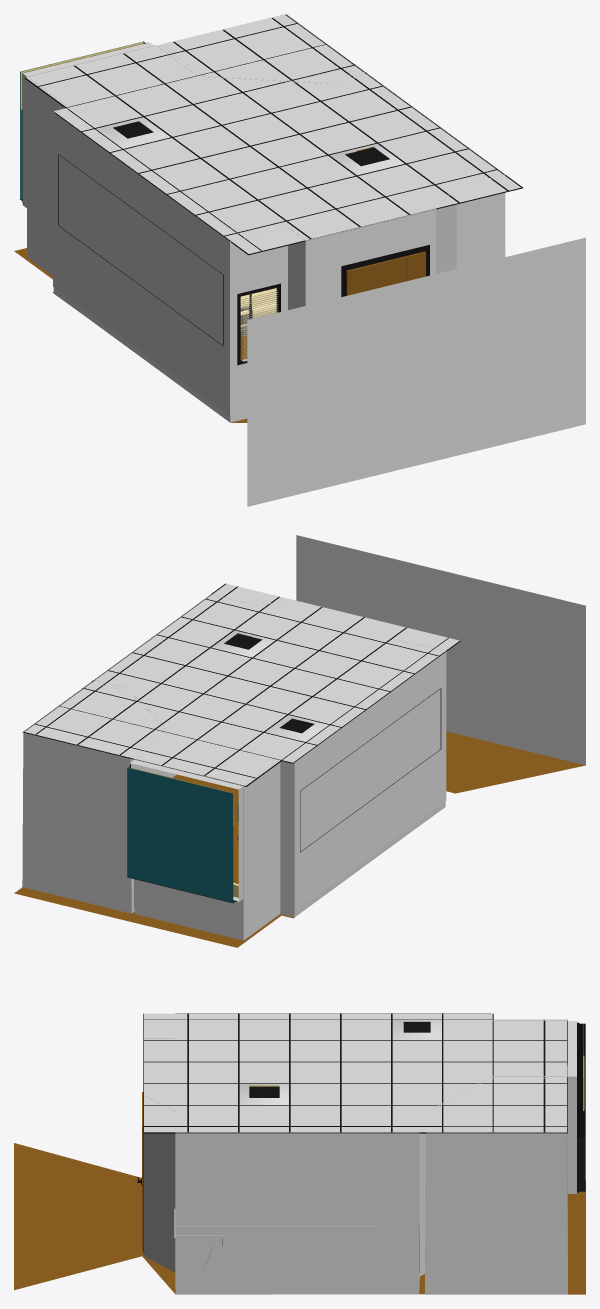
Rendered from Room_Fin.obj.
3 views of the same model, one above another, from view 1: azimuth 30°, elevation 25°; view 2: azimuth 150°, elevation 25°; view 3: azimuth 270°, elevation 25° (orthographic). The views are drawn at different scales.
Parts seen in each view (by area): view 1: Room Floor, Room Ceiling, Room Walls, Room Door_Entrance, Room Bed Blanket, Room Blinds Blinds_Small; view 2: Room Walls, Room Ceiling, Room Floor; view 3: Room Walls, Room Ceiling, Room Floor.
Part boxes in pixels (x1=…): Room Floor: x1=14, y1=237, x2=585, y2=506; Room Ceiling: x1=24, y1=14, x2=523, y2=255; Room Walls: x1=20, y1=14, x2=505, y2=422; Room Door_Entrance: x1=346, y1=256, x2=405, y2=295; Room Bed Blanket: x1=240, y1=288, x2=276, y2=327; Room Blinds Blinds_Small: x1=241, y1=290, x2=278, y2=361; Room Walls: x1=22, y1=594, x2=446, y2=940; Room Ceiling: x1=22, y1=583, x2=460, y2=786; Room Floor: x1=14, y1=535, x2=585, y2=947; Room Walls: x1=142, y1=1013, x2=585, y2=1294; Room Ceiling: x1=143, y1=1013, x2=567, y2=1133; Room Floor: x1=14, y1=1143, x2=585, y2=1294.
Size of the model in its own units: 548 by 280 by 871.
